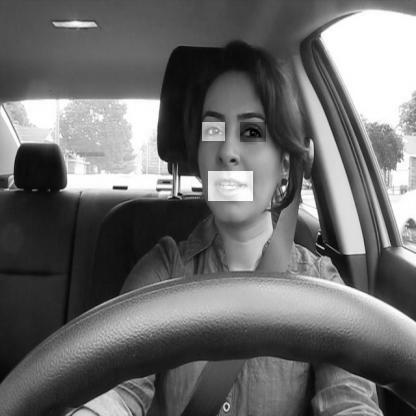seatbelt: (177, 38, 314, 416)
